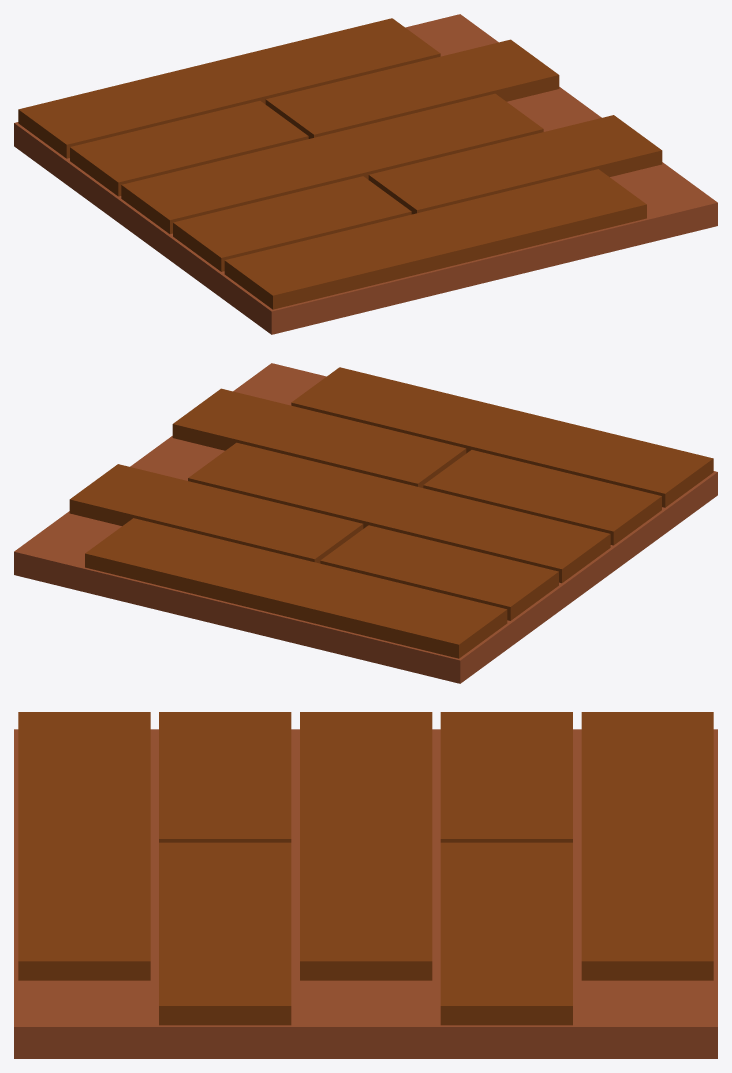
The model's file is Prop_Tile_Terrain_Dungeon_Timber_Panel_03.FBX.
3 views of the same model, one above another, from view 1: azimuth 30°, elevation 25°; view 2: azimuth 150°, elevation 25°; view 3: azimuth 270°, elevation 25° (orthographic). The views are drawn at different scales.
Parts seen in each view (by area): view 1: Prop_Tile_Terrain_Dungeon_Timber_Panel_03; view 2: Prop_Tile_Terrain_Dungeon_Timber_Panel_03; view 3: Prop_Tile_Terrain_Dungeon_Timber_Panel_03.
Boxes of the visible parts, bbox=[...] form: Prop_Tile_Terrain_Dungeon_Timber_Panel_03: bbox=[14, 14, 717, 334]; Prop_Tile_Terrain_Dungeon_Timber_Panel_03: bbox=[14, 363, 717, 683]; Prop_Tile_Terrain_Dungeon_Timber_Panel_03: bbox=[14, 712, 717, 1058].
Size of the model in its own units: 3000 by 240 by 3000.
